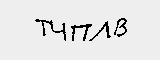В: (113, 16, 130, 39)
Л: (88, 19, 111, 42)
П: (69, 20, 90, 44)
Т: (33, 14, 49, 38)
Ч: (49, 18, 66, 41)
